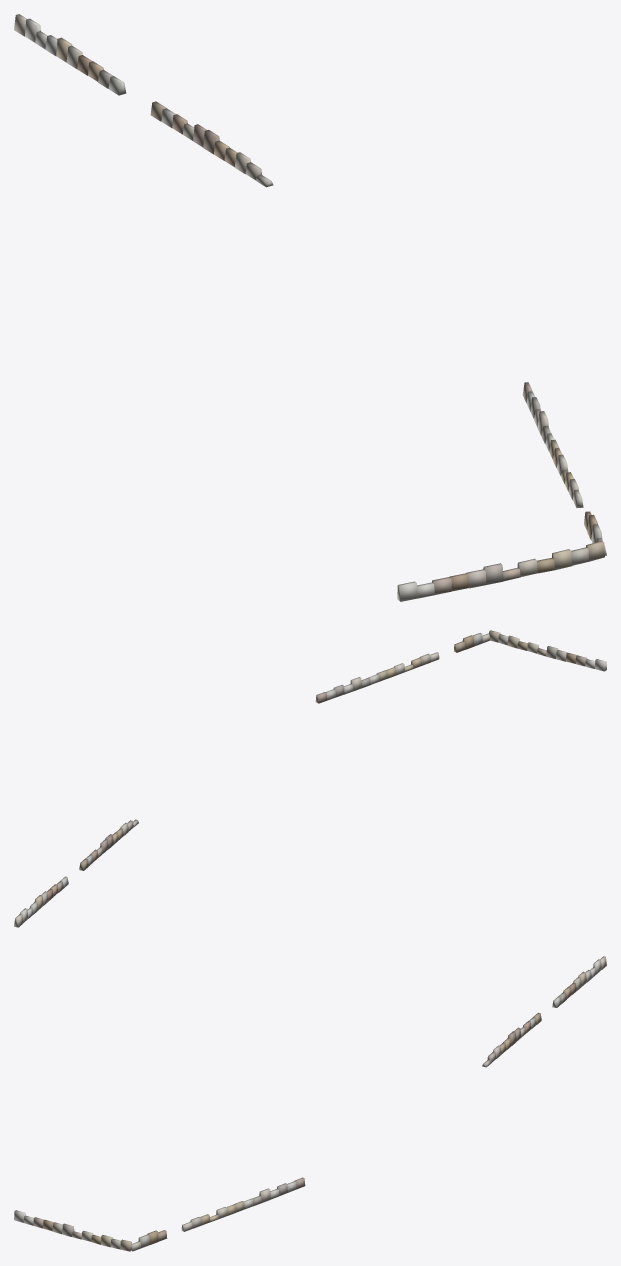
Rendered from farm_18_16_collision.glb.
The picture shows the model from 3 angles, top to bottom: view 1: azimuth 30°, elevation 25°; view 2: azimuth 150°, elevation 25°; view 3: azimuth 330°, elevation 25°; orthographic projection. The views are drawn at different scales.
Parts seen in each view (by area): view 1: geometry_0; view 2: geometry_0; view 3: geometry_0.
Boxes of the visible parts, x1,y1,x2,y2 form: geometry_0: (14, 14, 606, 601); geometry_0: (14, 630, 606, 927); geometry_0: (14, 956, 606, 1251).
Size of the model in its own units: 31.21 by 1.73 by 113.
